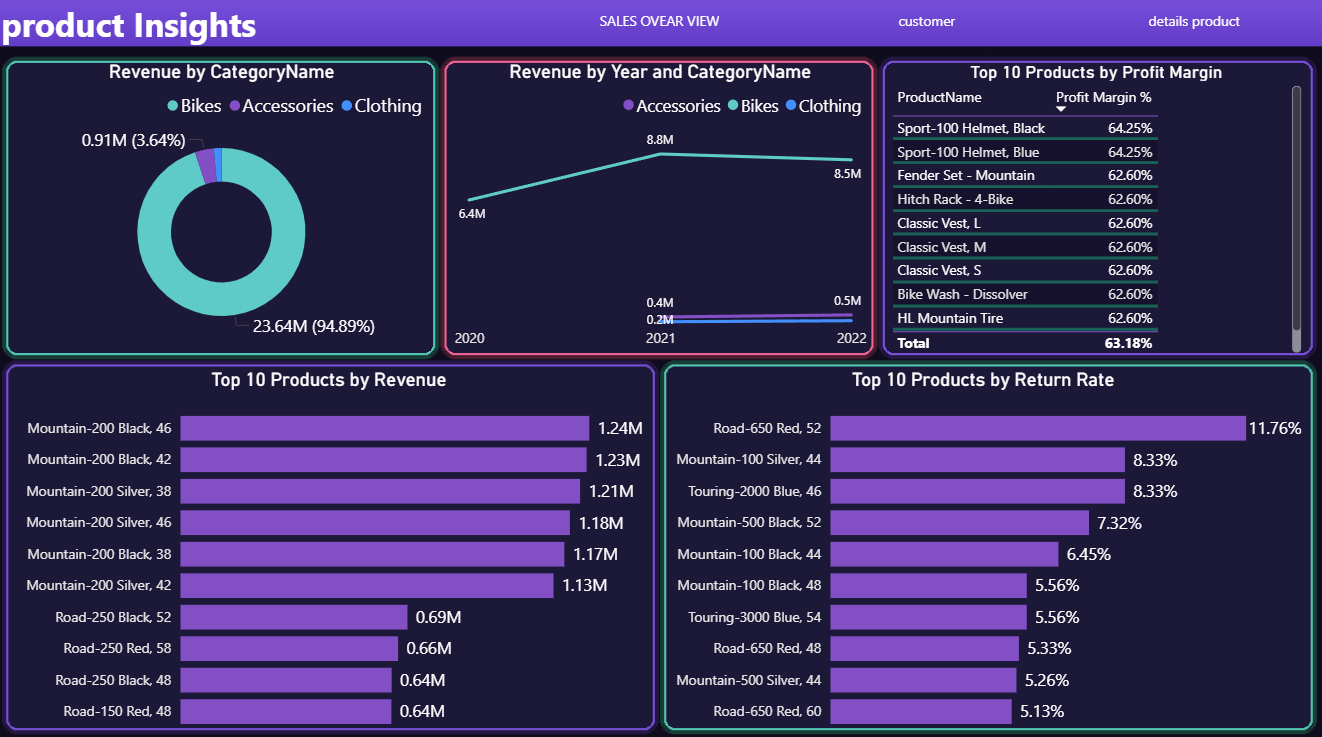

This screenshot's page, from the dashboard's own definition file:
{"tool":"powerbi","page":{"name":"details product","canvas":[1280,720],"ordinal":2},"visuals":[{"type":"barChart","title":"Top 10 Products by Revenue","fields":{"Category":["product.ProductName"],"Y":["new messure.Revenue"]},"box":[13.7,359.5,616.1,360.9],"z":0},{"type":"donutChart","fields":{"Category":["product category.CategoryName"],"Y":["new messure.Revenue"]},"box":[13.7,63.1,408.9,275.8],"z":1000},{"type":"tableEx","title":"Top 10 Products by Profit Margin","fields":{"Values":["product.ProductName","new messure.Profit Margin %"]},"box":[859,63.1,406.2,286.8],"z":2000},{"type":"barChart","title":"Top 10 Products by Return Rate","fields":{"Category":["product.ProductName"],"Y":["new messure.Return Rate"]},"box":[640.8,359.5,624.4,360.9],"z":3000},{"type":"lineChart","fields":{"Y":["new messure.Revenue"],"Series":["product category.CategoryName"],"Category":["calender.Date.Variation.Date Hierarchy.Year"]},"box":[436.4,63.1,408.9,286.8],"z":4000},{"type":"pageNavigator","box":[516,0,764.3,46.7],"z":5000},{"type":"textbox","box":[0,0,680.6,63.1],"z":6000}]}

Visuals, with their boxes in screenshot pixels (x1, y1, x2, y2), scaled from the page's 1280x720 canvas onto the 1322x737 screenshot:
"Top 10 Products by Revenue" barChart: detection(14, 368, 650, 736)
donutChart - product category.CategoryName x new messure.Revenue: detection(14, 65, 436, 347)
"Top 10 Products by Profit Margin" tableEx: detection(887, 65, 1307, 358)
"Top 10 Products by Return Rate" barChart: detection(662, 368, 1307, 736)
lineChart - new messure.Revenue x product category.CategoryName: detection(451, 65, 873, 358)
pageNavigator: detection(533, 0, 1321, 48)
textbox: detection(0, 0, 703, 65)
